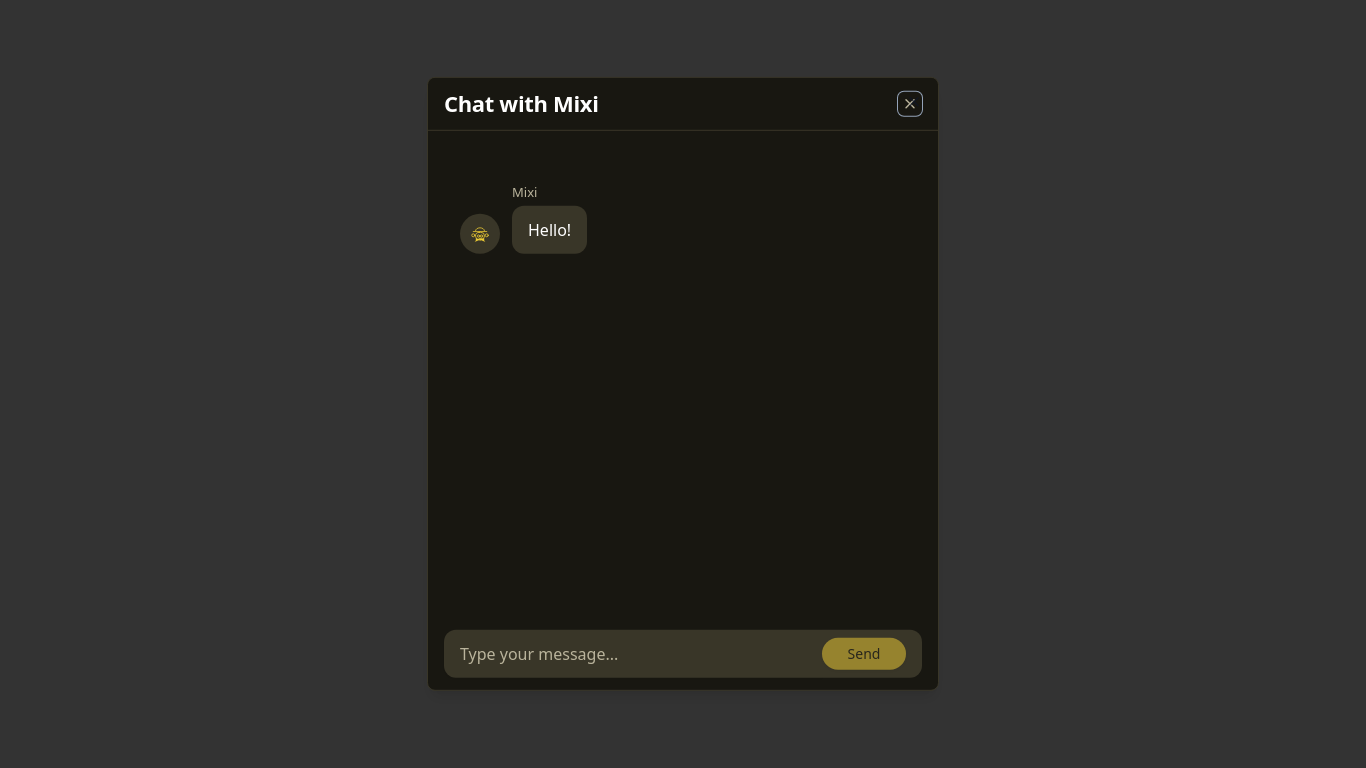
Test: MixiChat Streaming Tests › Error handling › should not crash on malformed SSE data
Step 1. Type "Test" into the field with test id "mixi-chat-input" → (633, 654), box [444, 630, 822, 678]
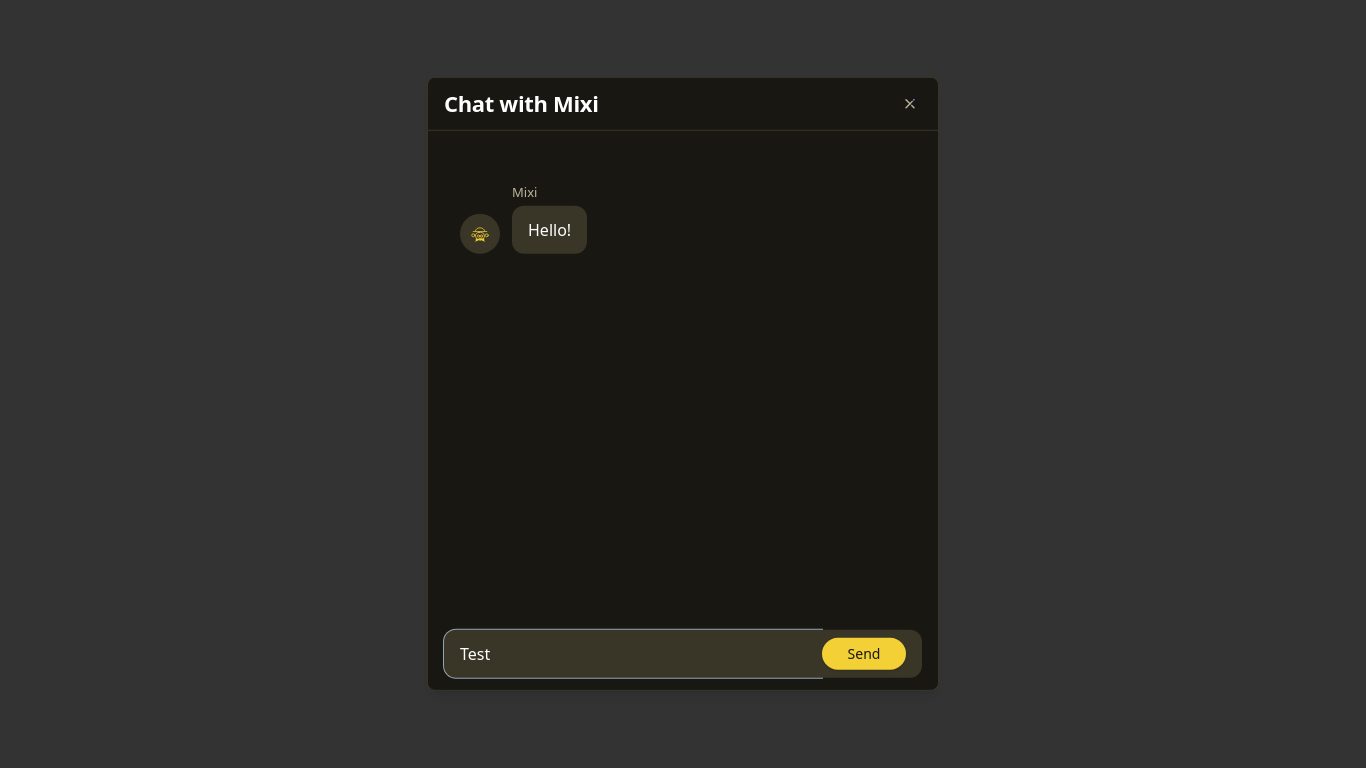
Step 2. Click the button with test id "mixi-chat-send-button" → (864, 654), box [822, 638, 906, 670]
Wait 100 ms
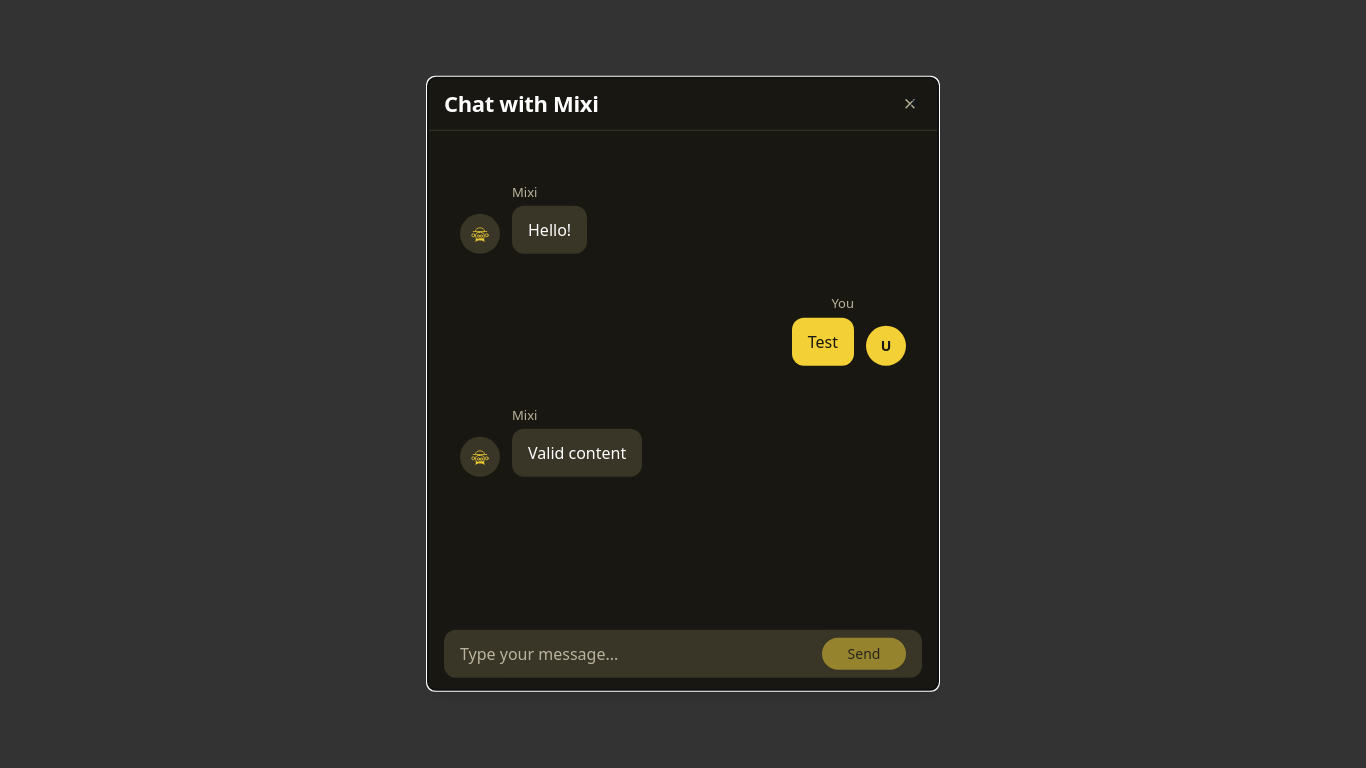
Expected: the field with test id "mixi-chat-input" is enabled, [444, 630, 822, 678]
Now the element with test id "mixi-chat-messages" shows "Valid content", box [528, 442, 626, 464]
